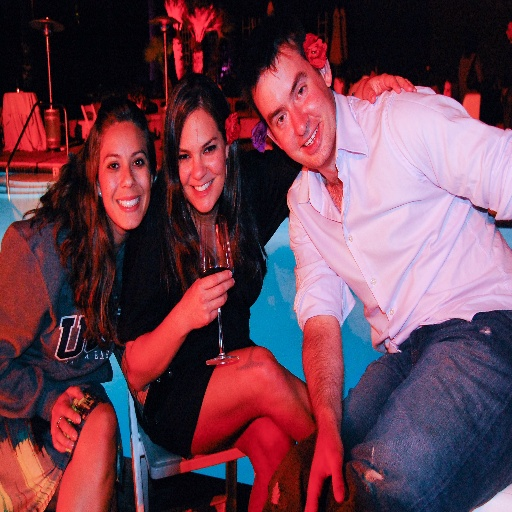hand: (304, 420, 345, 511), (180, 275, 231, 334), (48, 384, 85, 455), (359, 70, 418, 105)
